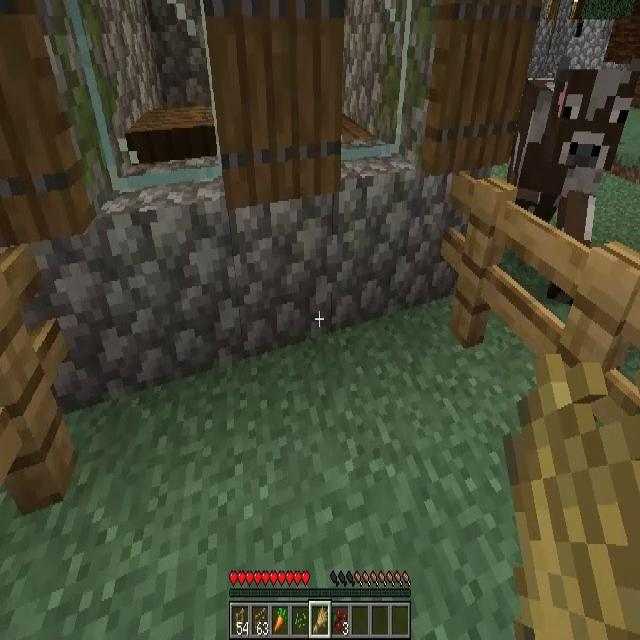cow: (519, 61, 638, 266)
